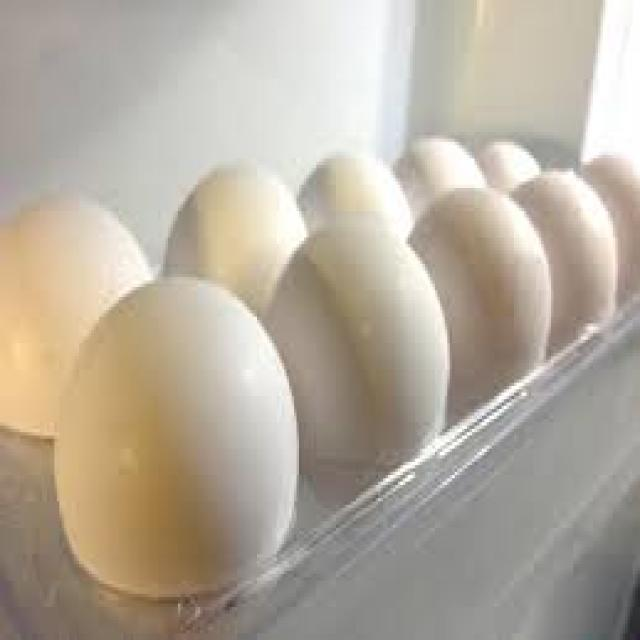biodegradable: (52, 271, 299, 601), (272, 221, 447, 478), (0, 195, 158, 439), (410, 188, 549, 399), (156, 155, 311, 300), (297, 148, 413, 287), (521, 162, 618, 323), (393, 129, 487, 238), (586, 152, 638, 294), (475, 139, 537, 211)
